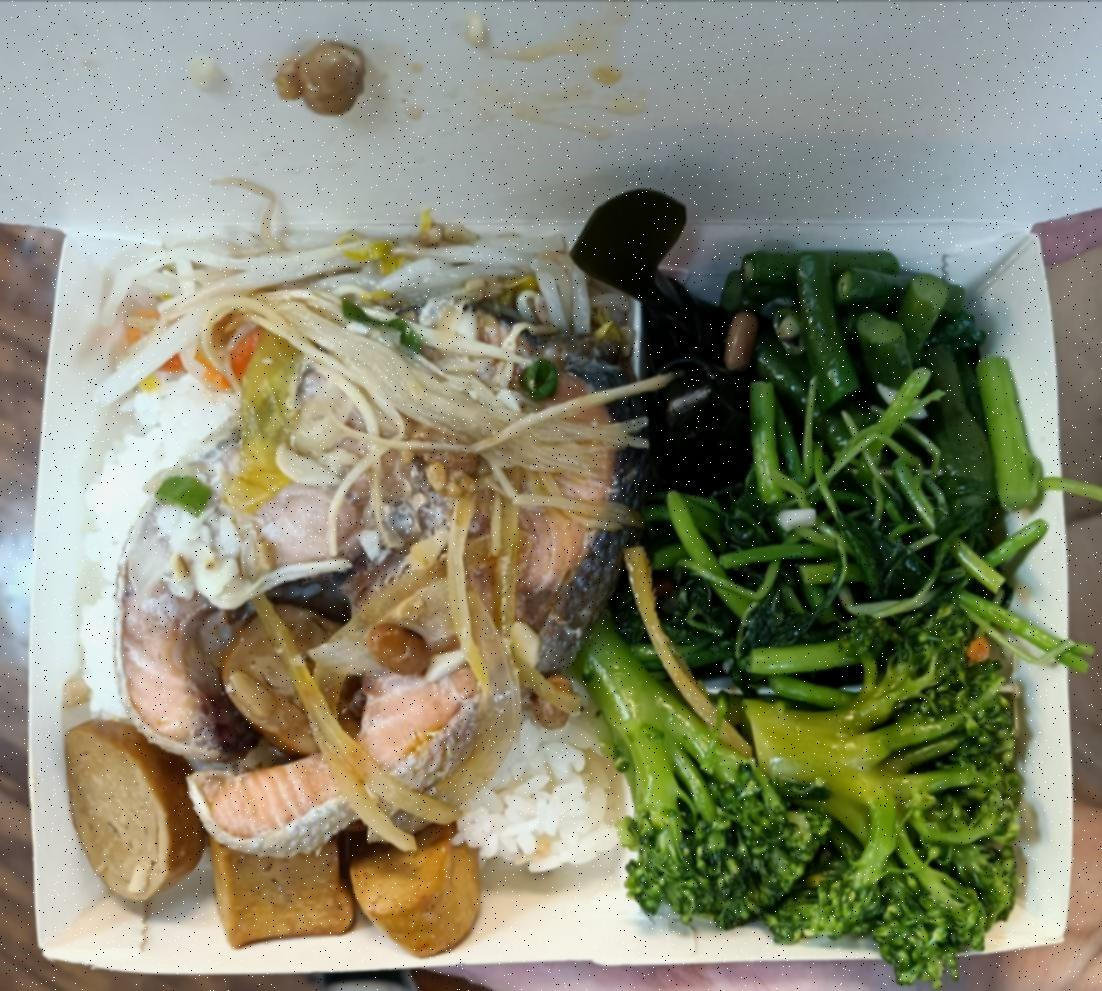box: (20, 203, 1072, 984)
salmon: (166, 315, 628, 818)
side dish: (622, 706, 1036, 968), (654, 478, 1000, 702), (72, 778, 518, 948), (730, 243, 1008, 457)
white rice: (98, 298, 646, 864)
